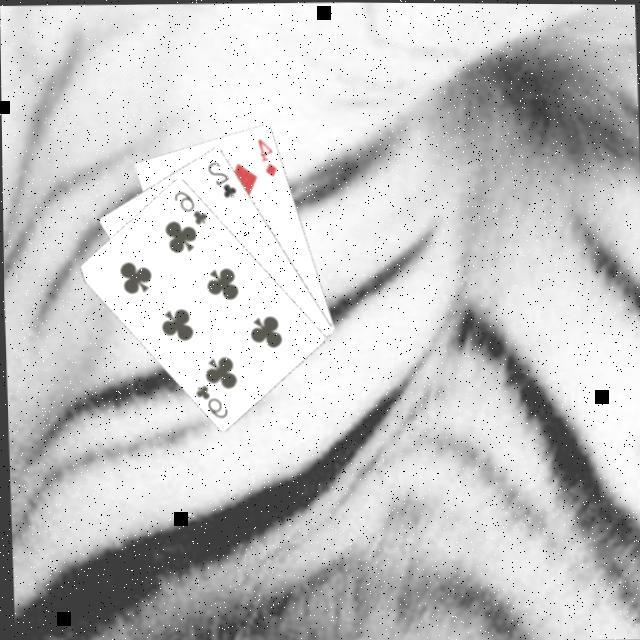2C: (201, 159, 239, 203)
4D: (252, 136, 280, 180)
6C: (168, 187, 210, 230), (190, 382, 228, 422)
